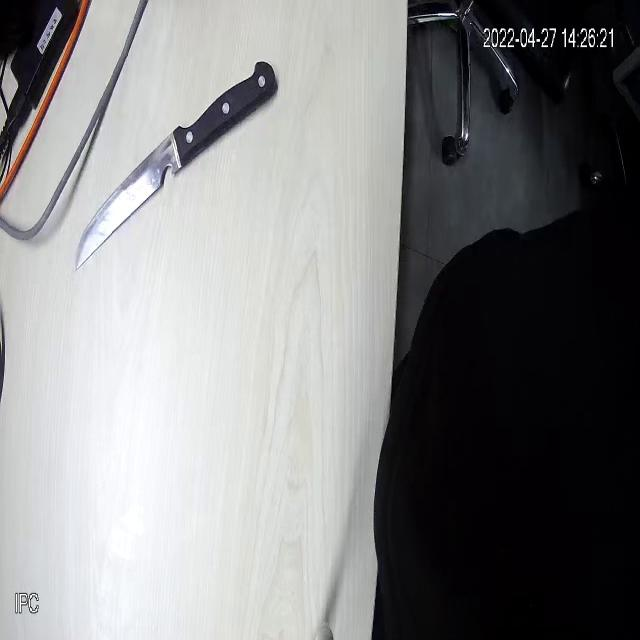knife: (77, 90, 276, 269)
